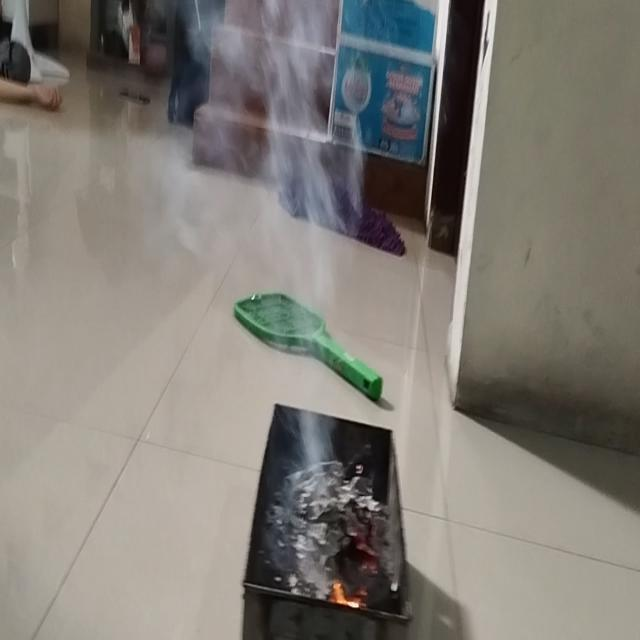fire: (184, 2, 361, 282)
